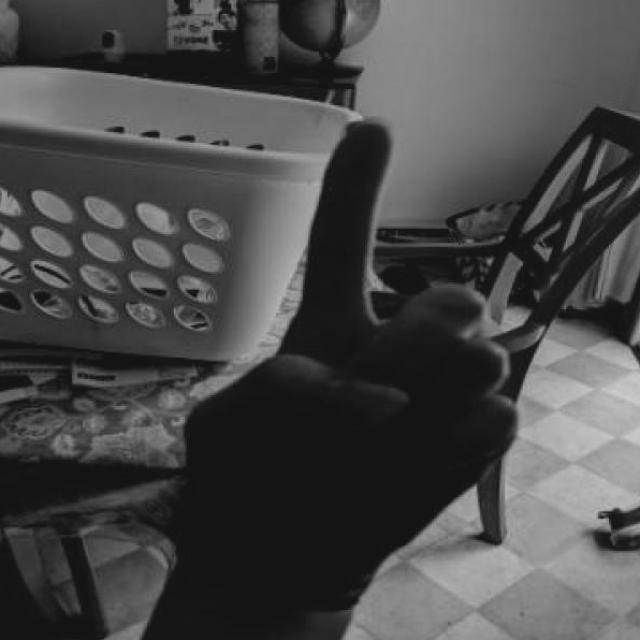D: (156, 104, 522, 613)
